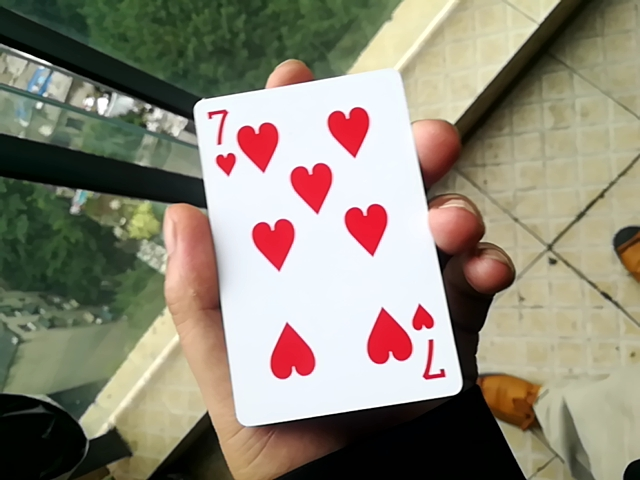hx 7: (188, 64, 453, 427)
